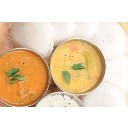idly: (8, 22, 53, 56), (96, 21, 126, 61), (85, 86, 124, 108), (106, 58, 128, 93), (51, 20, 74, 45), (74, 21, 98, 39)
